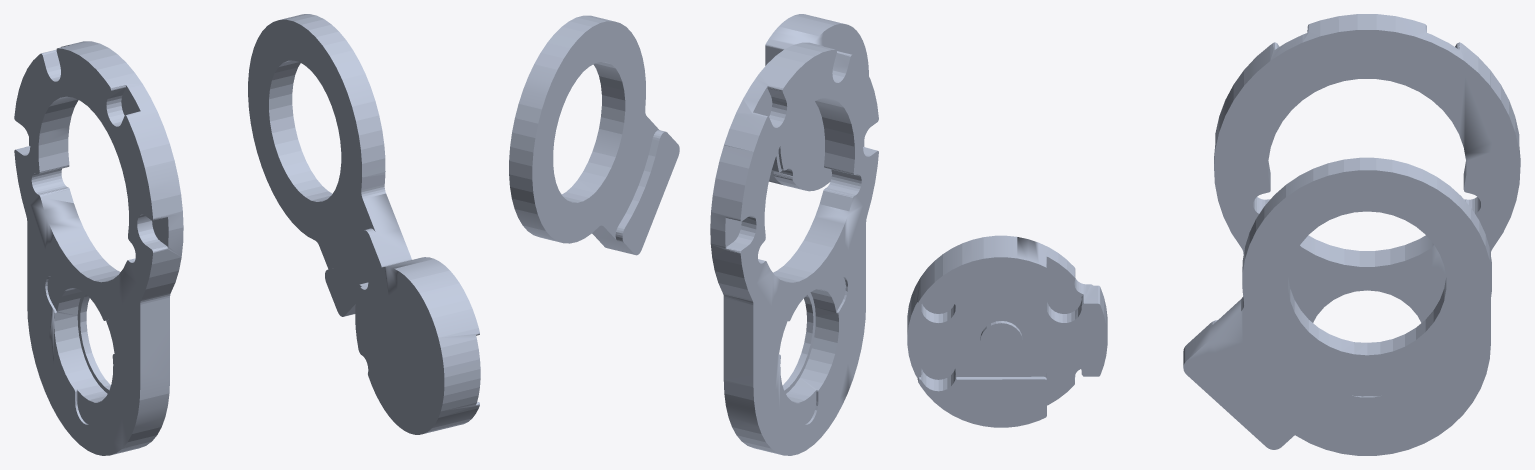
3 views of the same model, side by side, from view 1: azimuth 30°, elevation 25°; view 2: azimuth 150°, elevation 25°; view 3: azimuth 270°, elevation 25° (orthographic). The views are drawn at different scales.
Parts seen in each view (by area): view 1: ee_base_link_02; view 2: ee_base_link_02; view 3: ee_base_link_02.
Part boxes in pixels (x1,y1,x2,y2): ee_base_link_02: [14, 14, 480, 455]; ee_base_link_02: [509, 14, 878, 455]; ee_base_link_02: [907, 14, 1520, 455].
Size of the model in its own units: 0.0575 by 0.0874 by 0.114.
